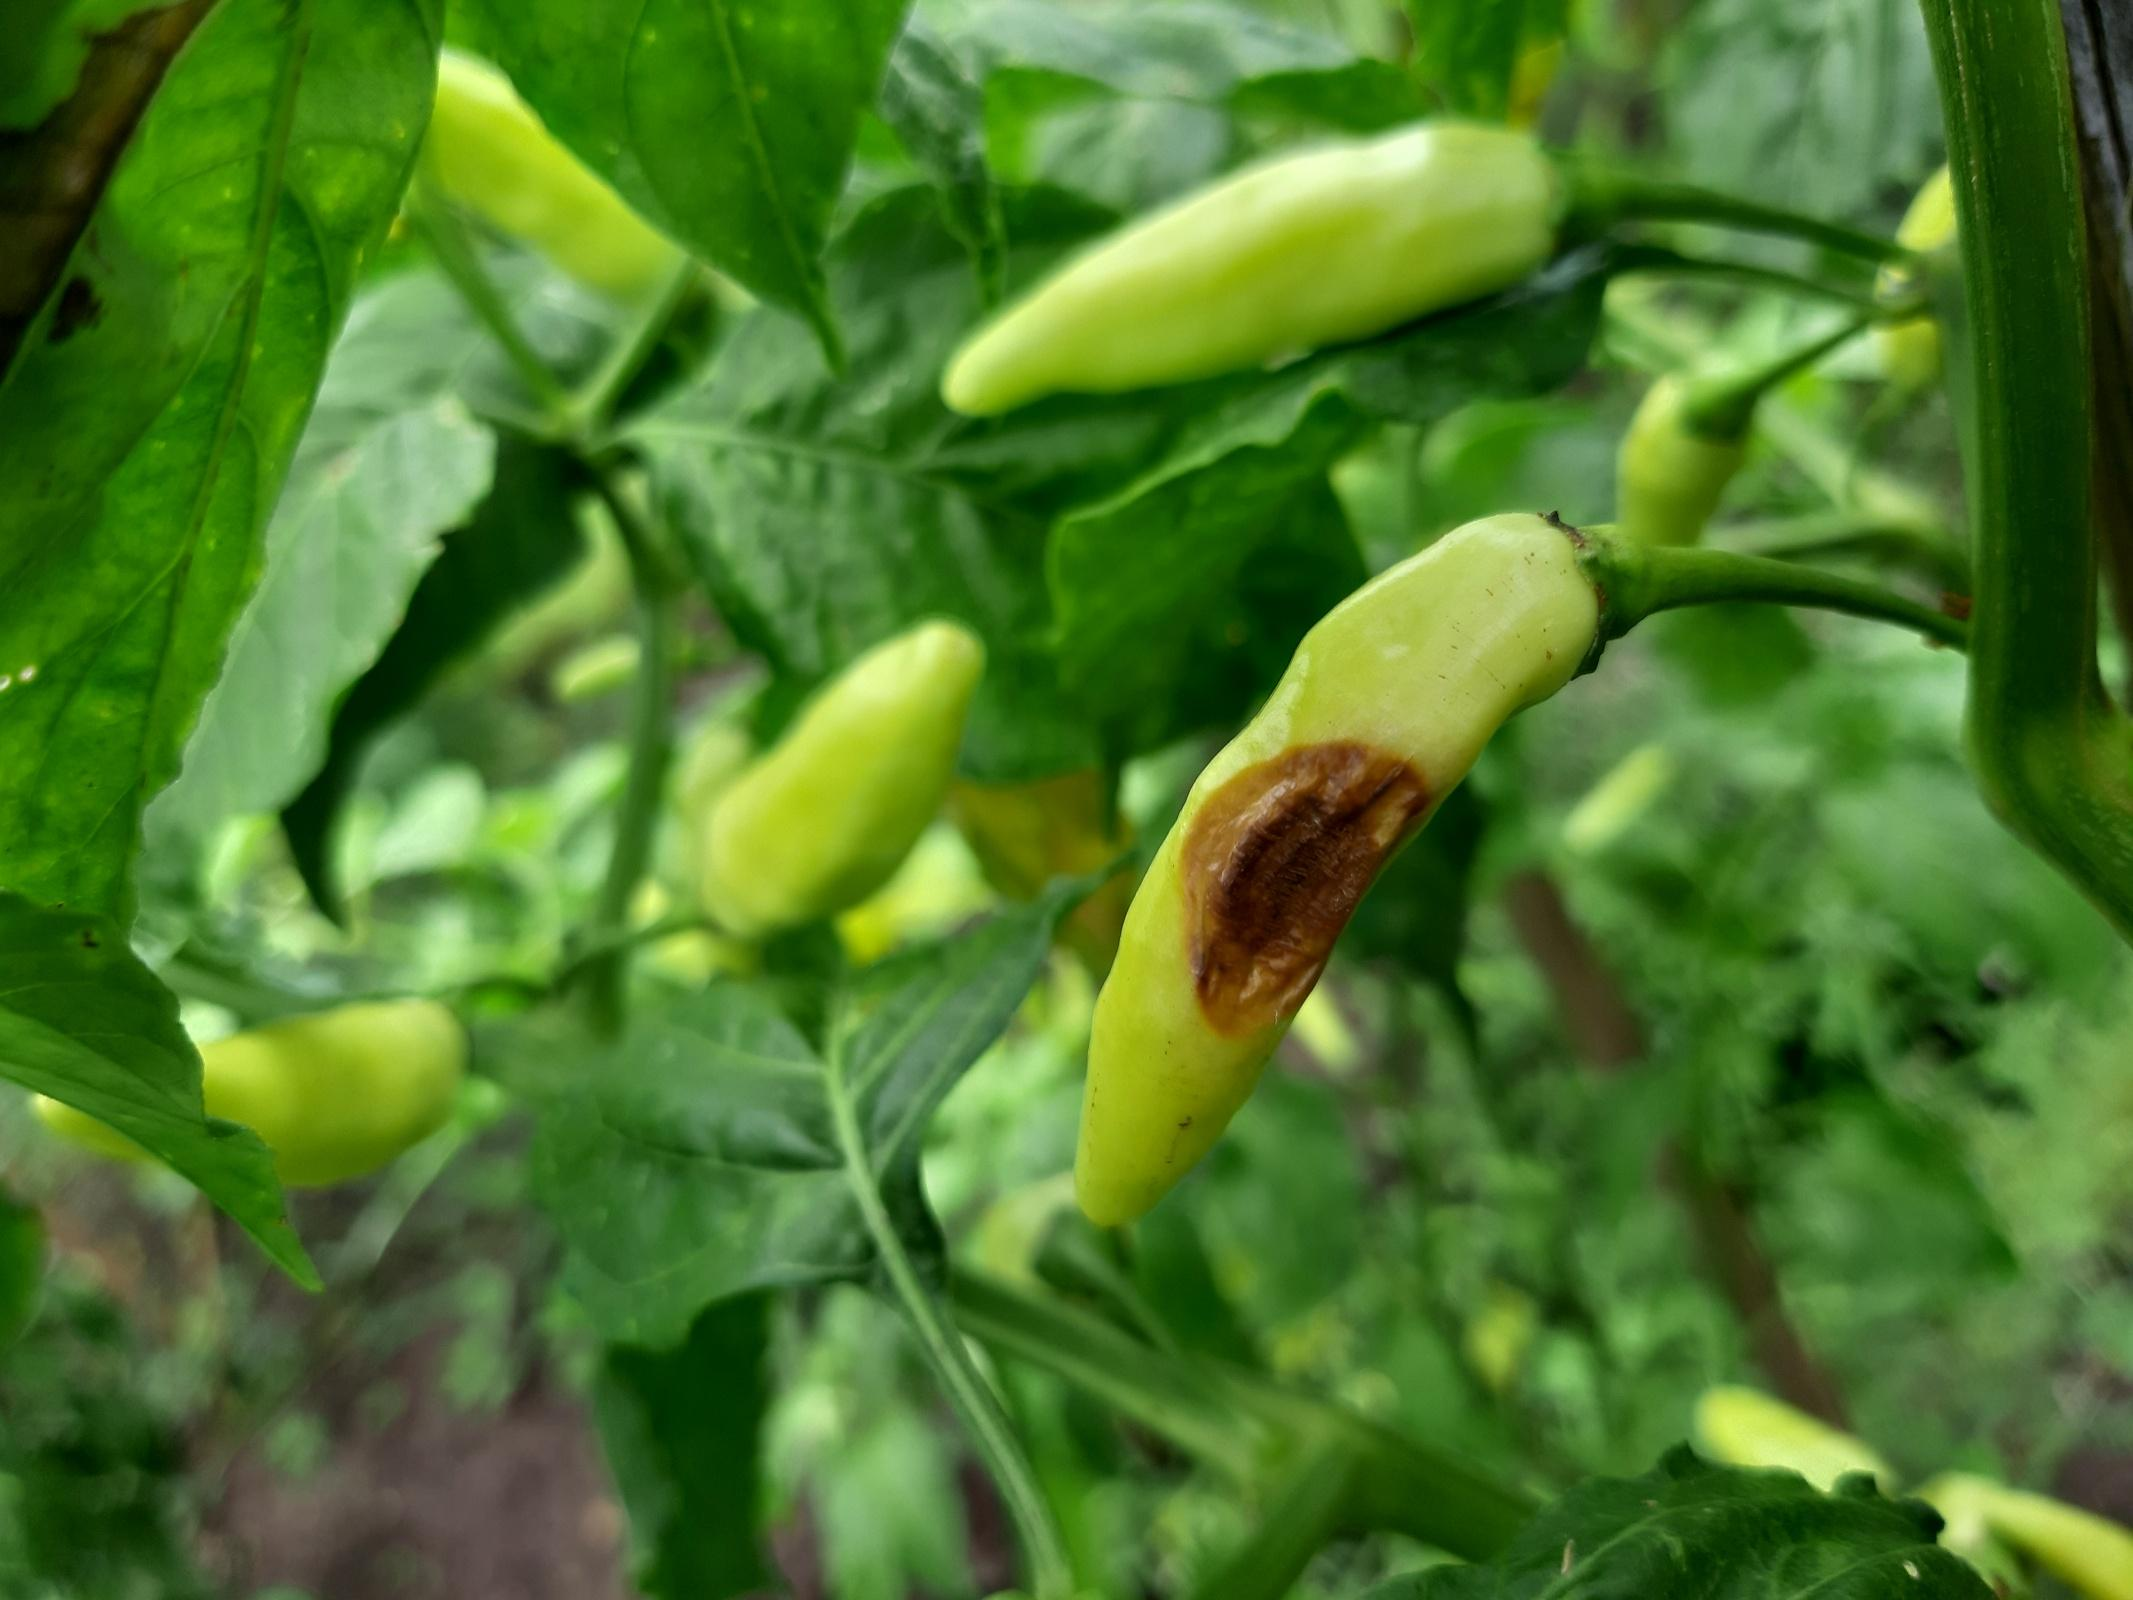antraknosa: (1076, 511, 1606, 1219)
cabai_normal: (951, 124, 1549, 411), (700, 616, 987, 925), (34, 999, 463, 1192)
